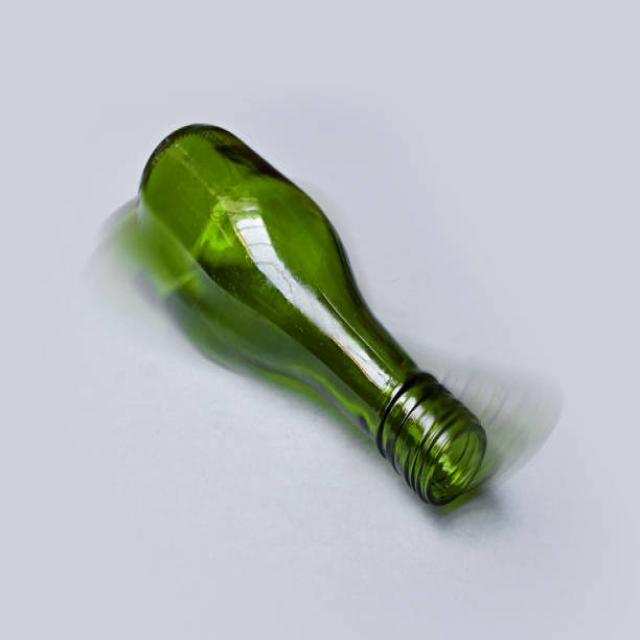electronic: (138, 123, 490, 519)
